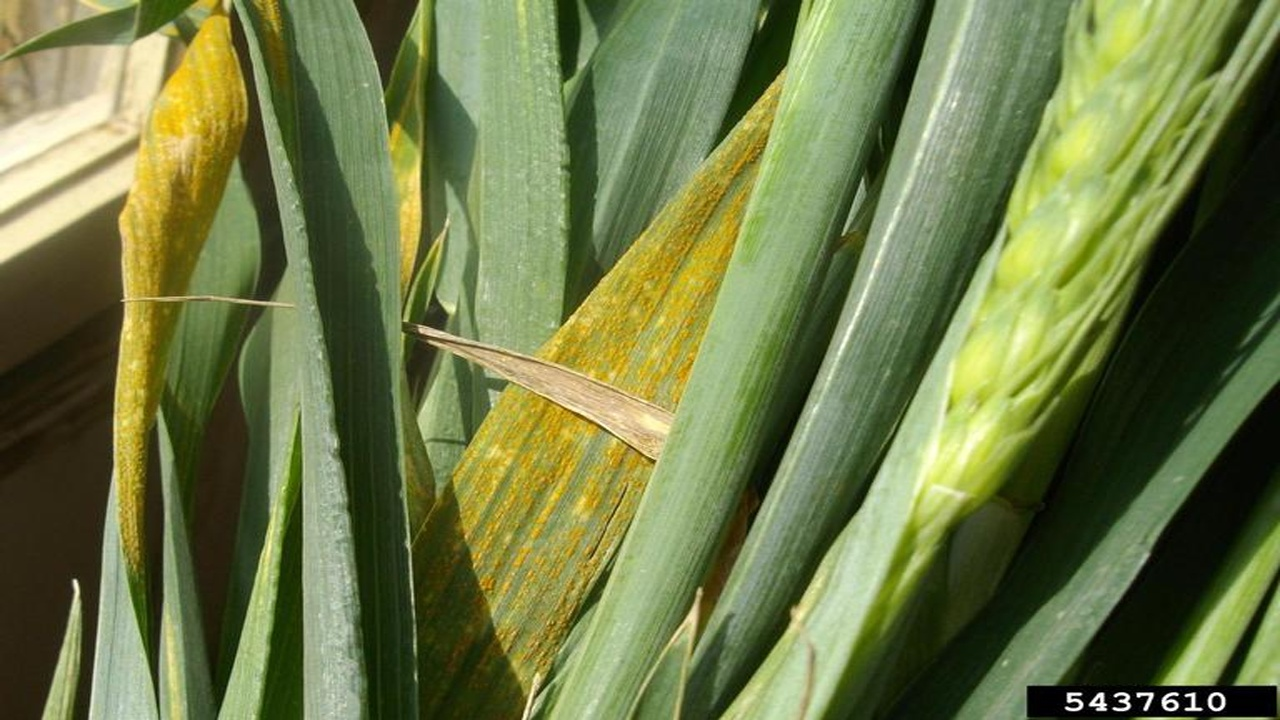stripe_rust: (419, 68, 786, 718), (110, 5, 252, 629)
